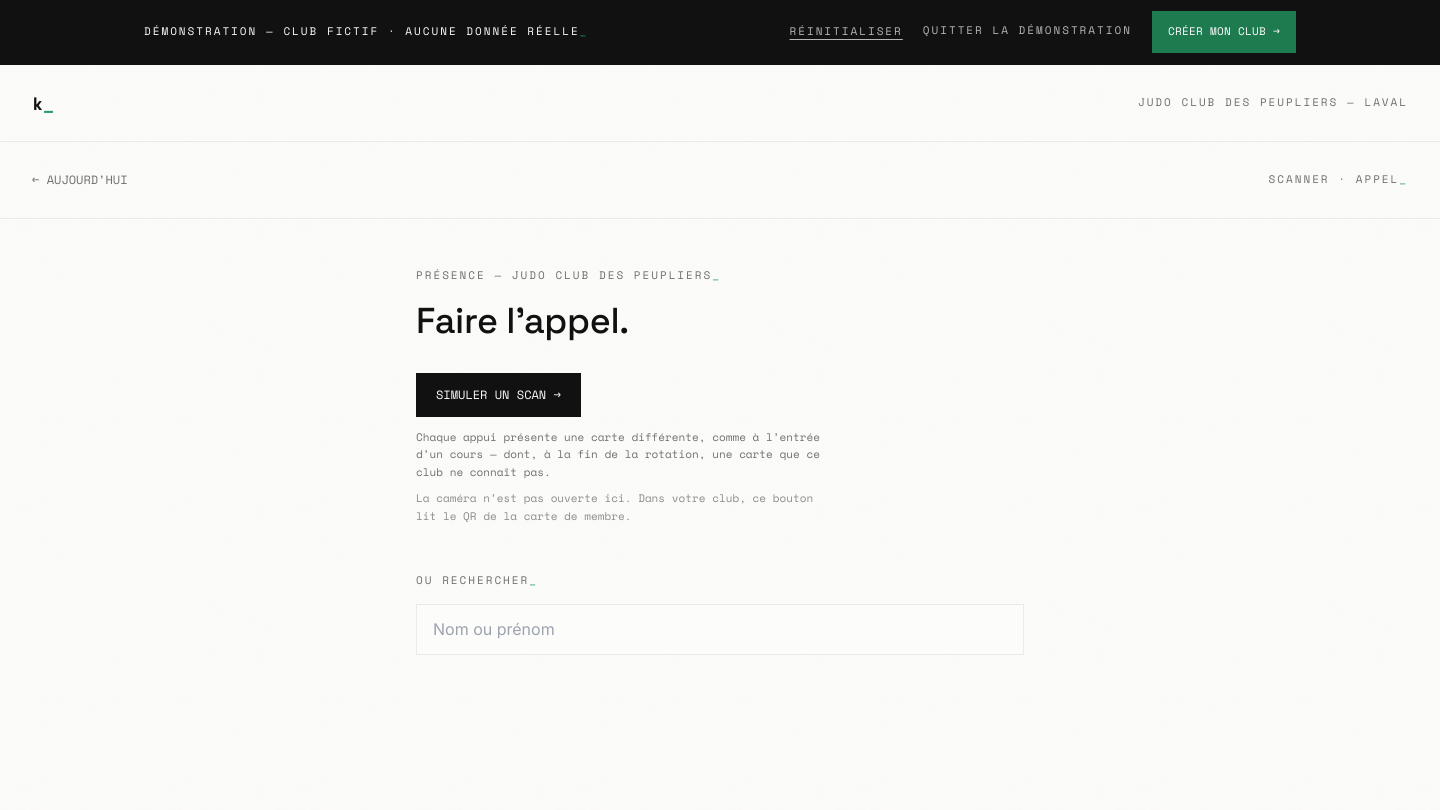
it: l’écran de contrôle › présente d’abord un dossier en règle
What coordinates should you click on to do the following:
click the button "SIMULER UN SCAN →"
I would click on:
 (498, 395)
Its box is [416,373,581,417].
(page scrolled)
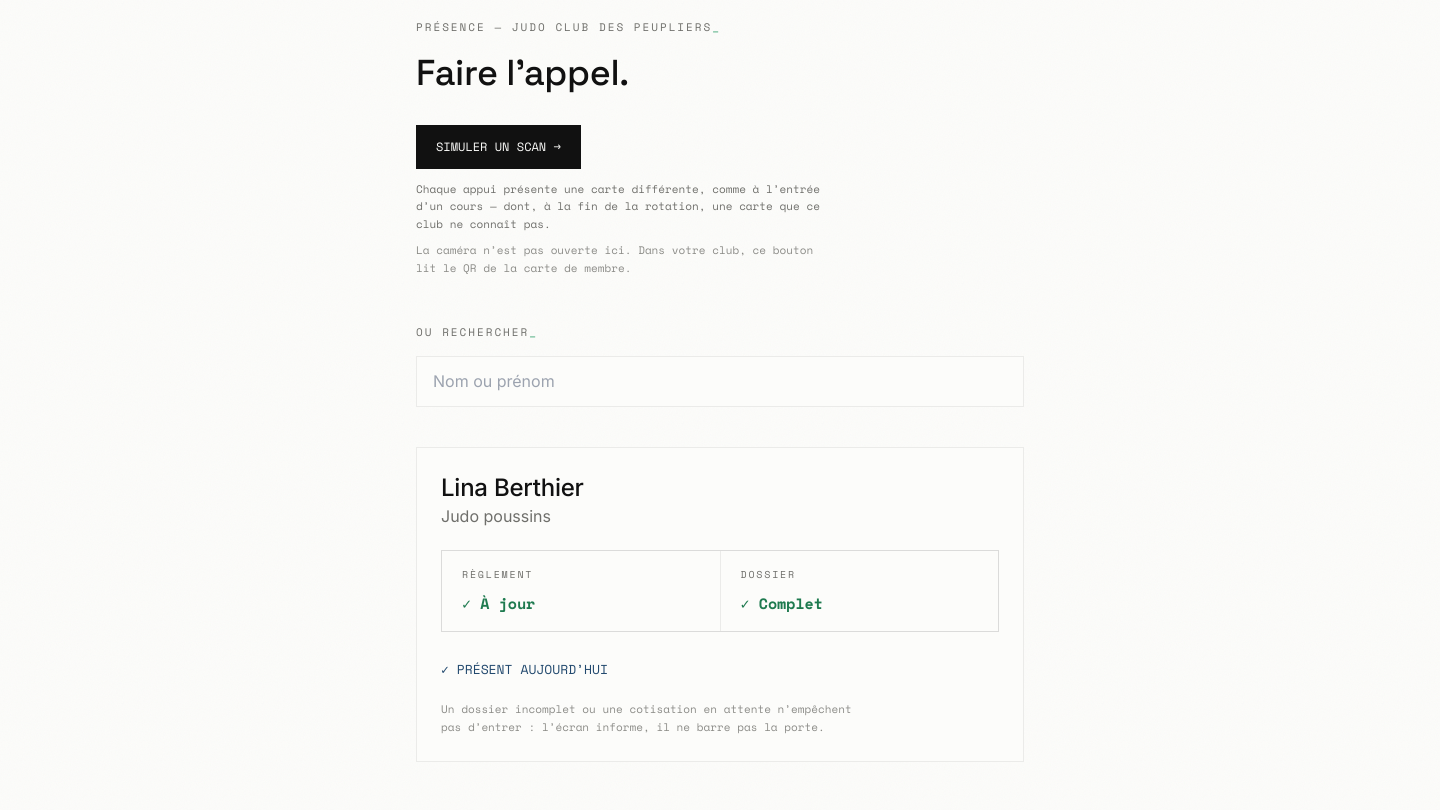
Now the text "Lina Berthier" is shown, box [441,473,584,502]
Now the text "Judo poussins" is shown, box [441,506,551,526]
Now the text "✓ À jour" is shown, box [462,592,535,614]
